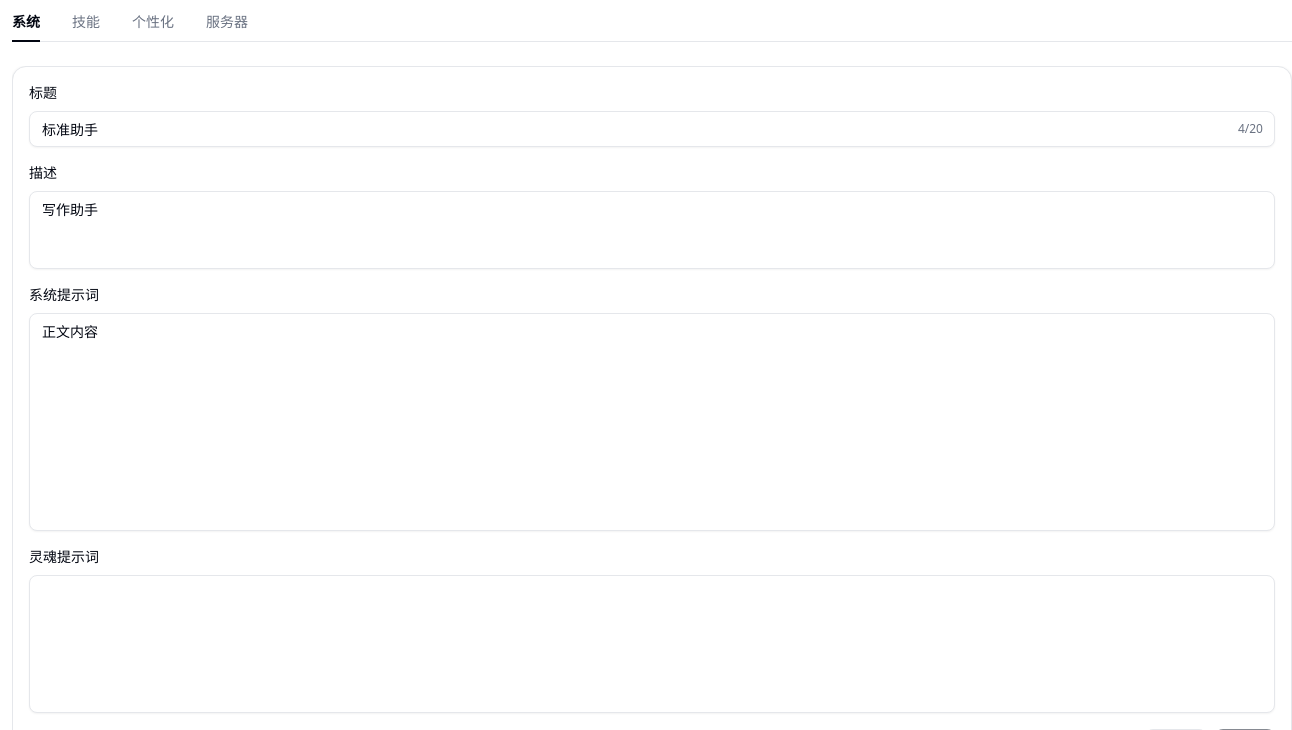
Scenario: SettingsPanel SYSTEM tab title/description 输入框 › title 输入框字数统计随输入更新
Expected: the text "4/20" is shown, [1238,121,1263,137]
Step 1. Replace the text in the field labelled "标题" with "测试助手助手" → (652, 129), box [29,111,1275,147]
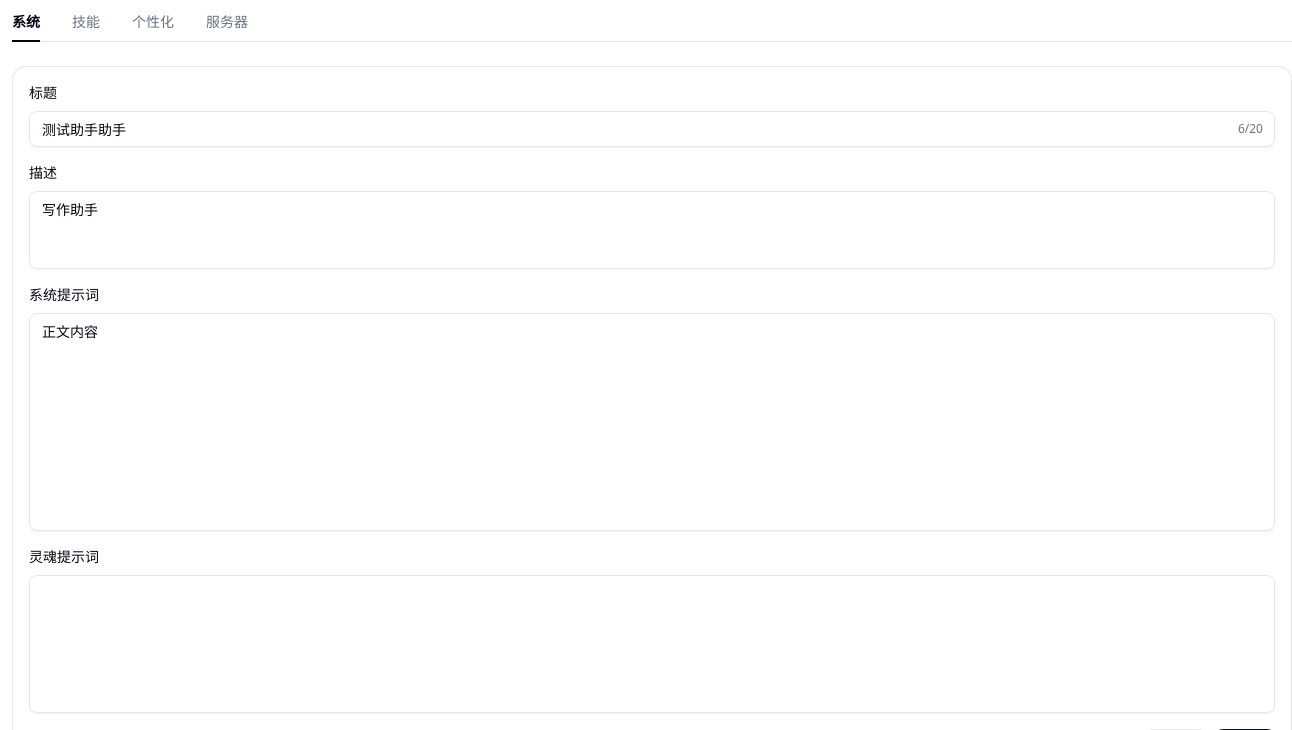
Result: the text "6/20" is shown at [1238,121,1263,137]
Step 2. Clear the field labelled "标题" → (652, 129), box [29,111,1275,147]
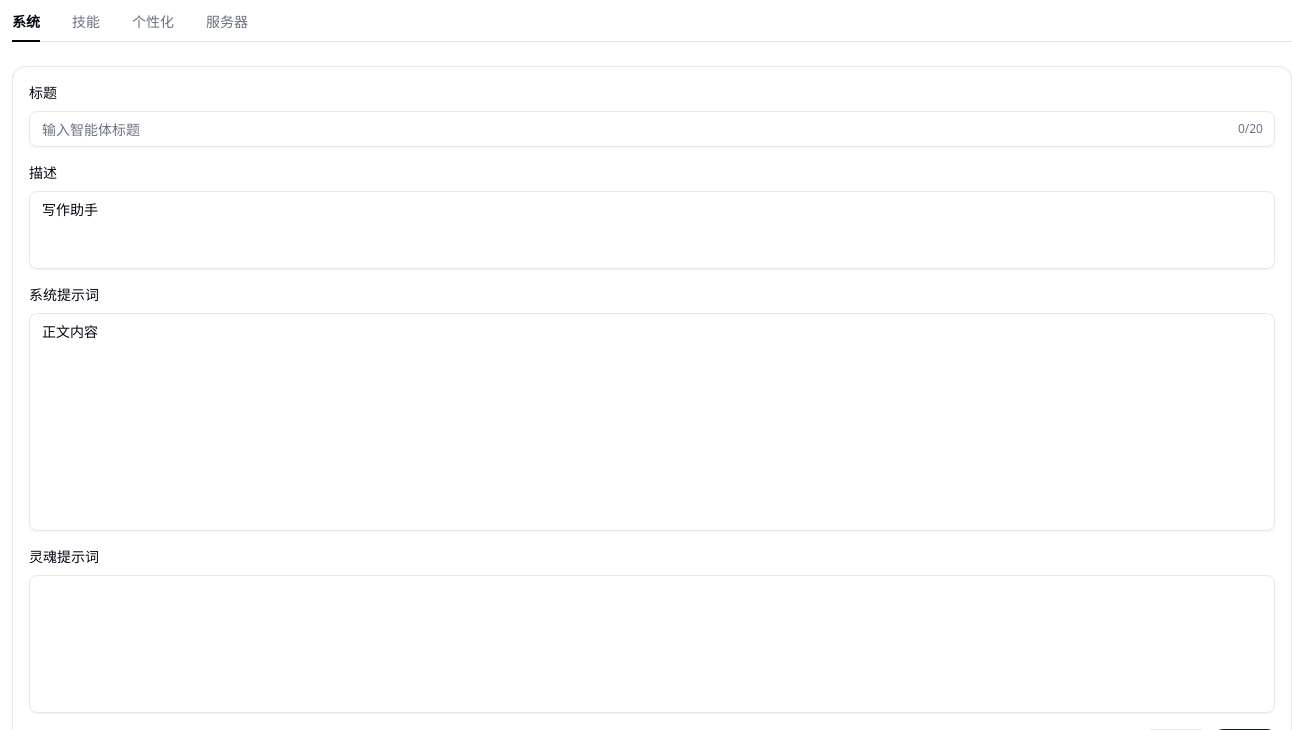
Result: the text "0/20" is shown at [1238,121,1263,137]
